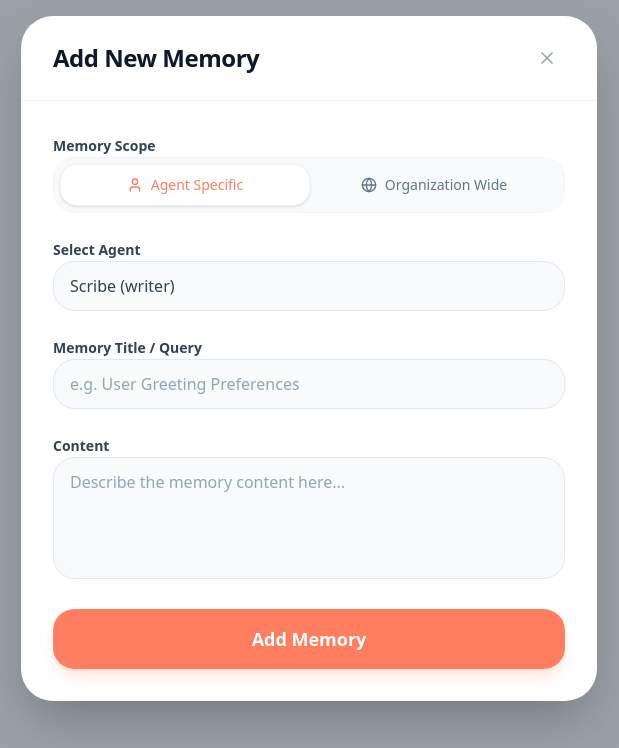
Test: AddMemoryModal › switches to org scope
Click the button "Organization Wide". click: (434, 184)
box: [310,164,558,206]
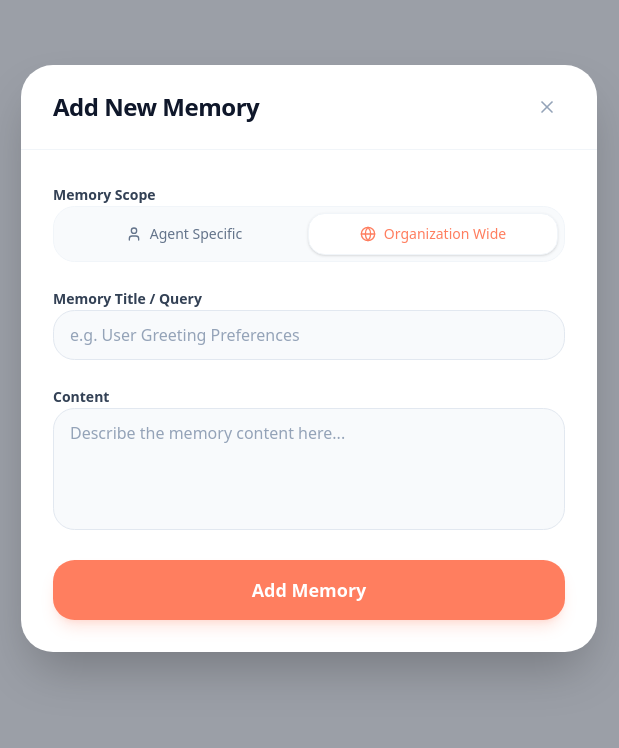
Result: the label labelled "Select Agent" is gone
